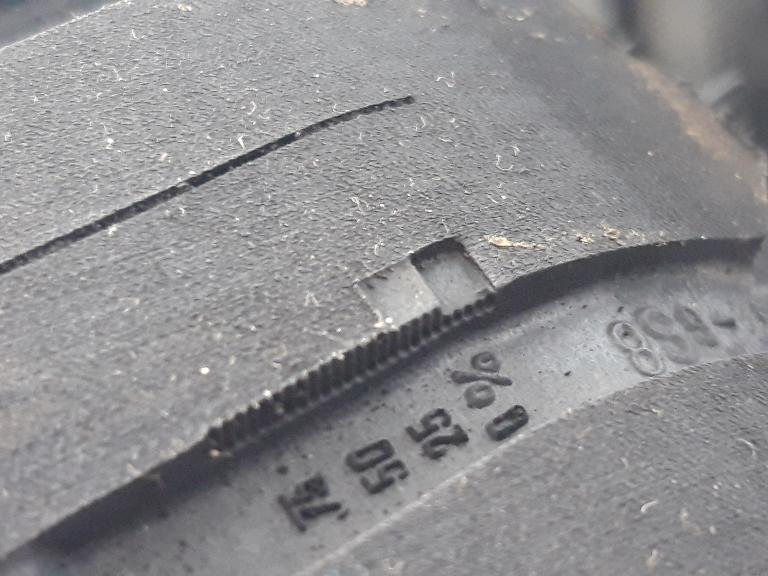temoin:25: (350, 226, 506, 375)
